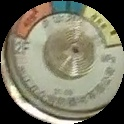green: (52, 2, 89, 18)
red: (12, 2, 54, 41)
yellow: (83, 6, 124, 49)
